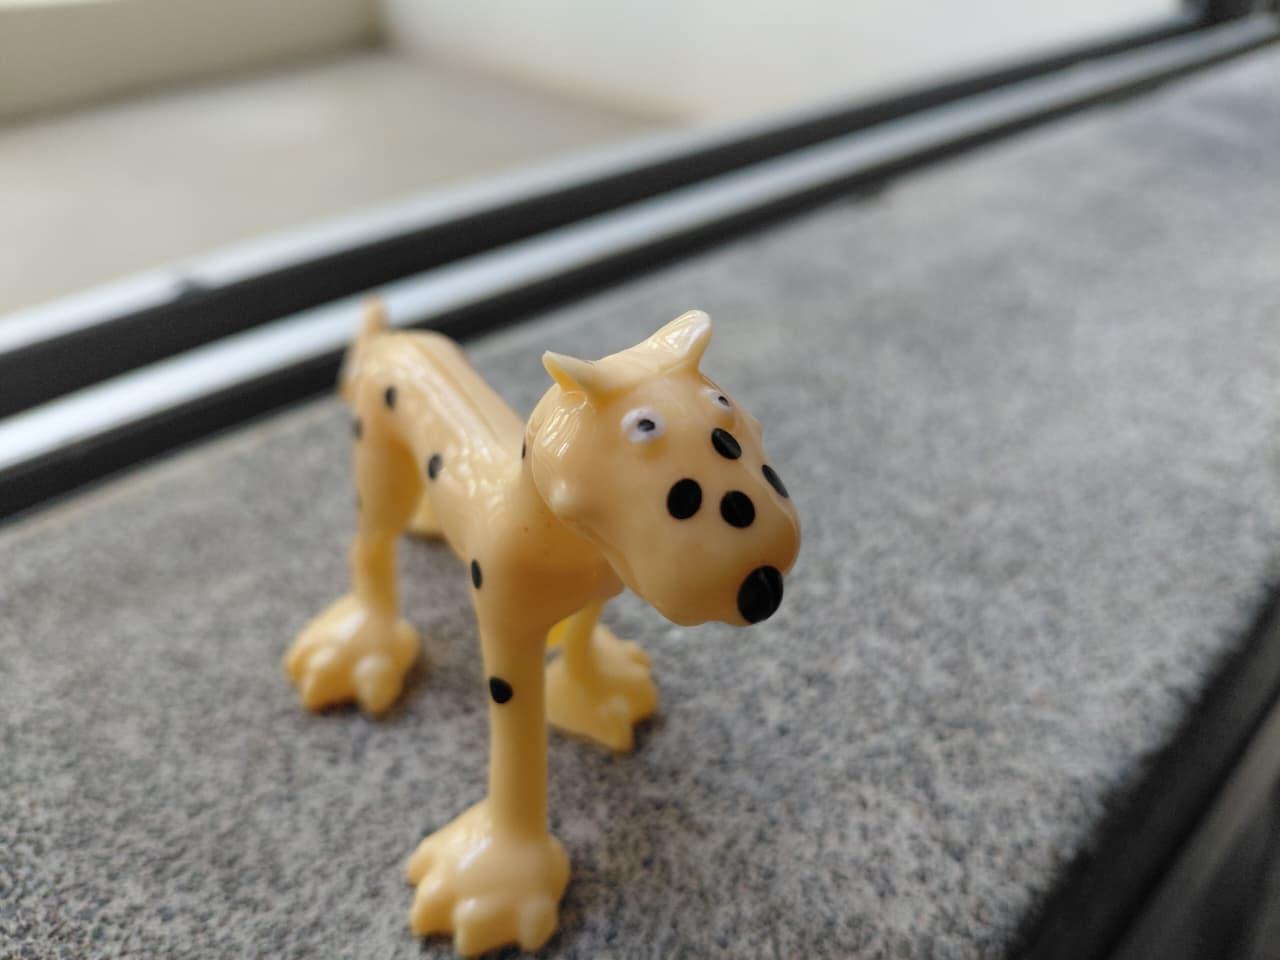cheetah: (279, 260, 853, 960)
